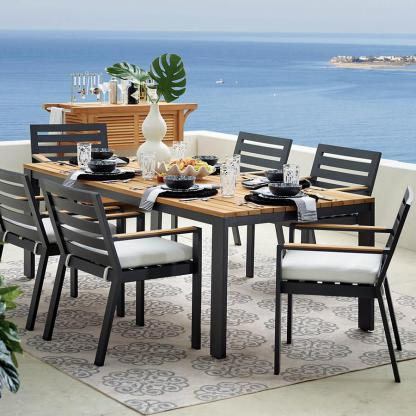table: (22, 145, 380, 364)
